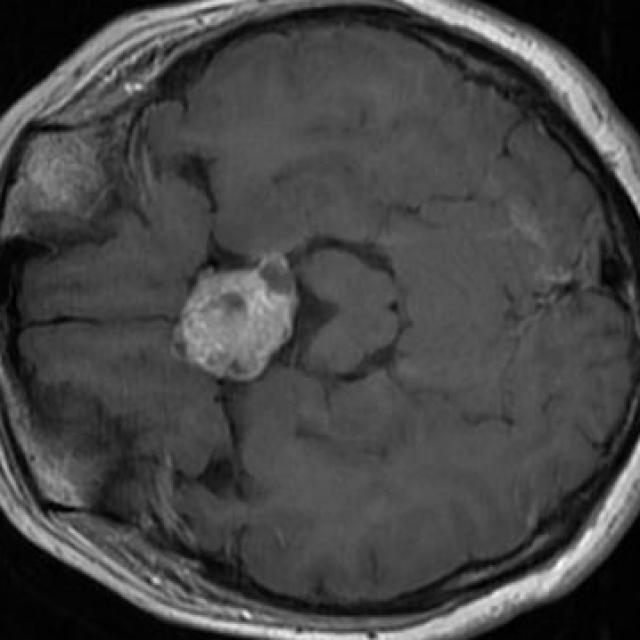pituitary: (178, 266, 296, 380)
